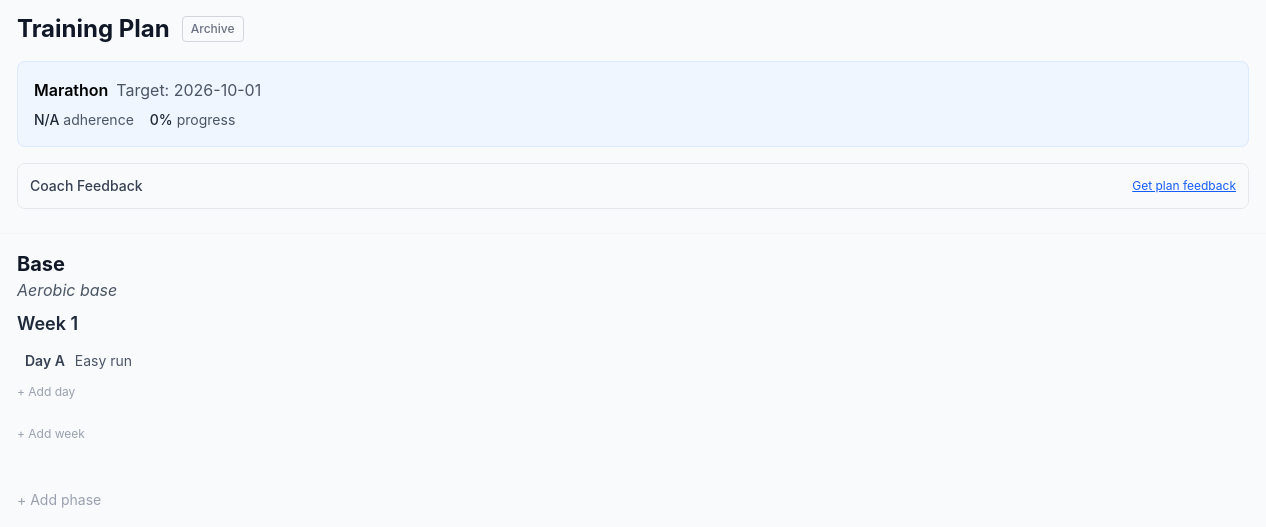
Scenario: TrainingPlan › clicking target date text enters edit mode and shows a date input
Click the text "Target: 2026-10-01" at (189, 90), box [116,78,261,102]
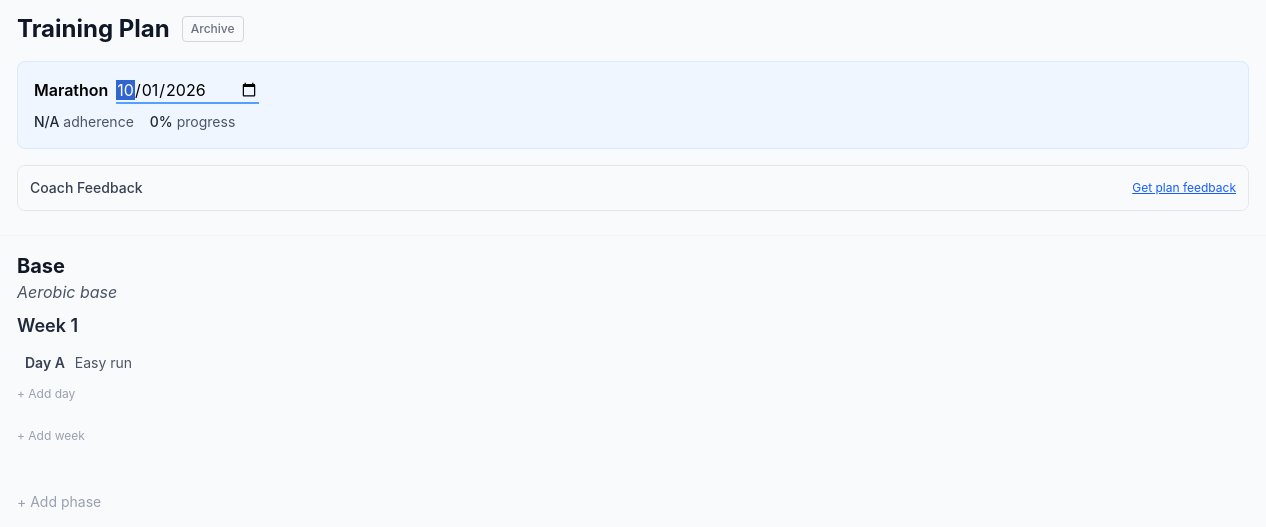
Expected: the date field holds "2026-10-01", [116,78,259,104]
